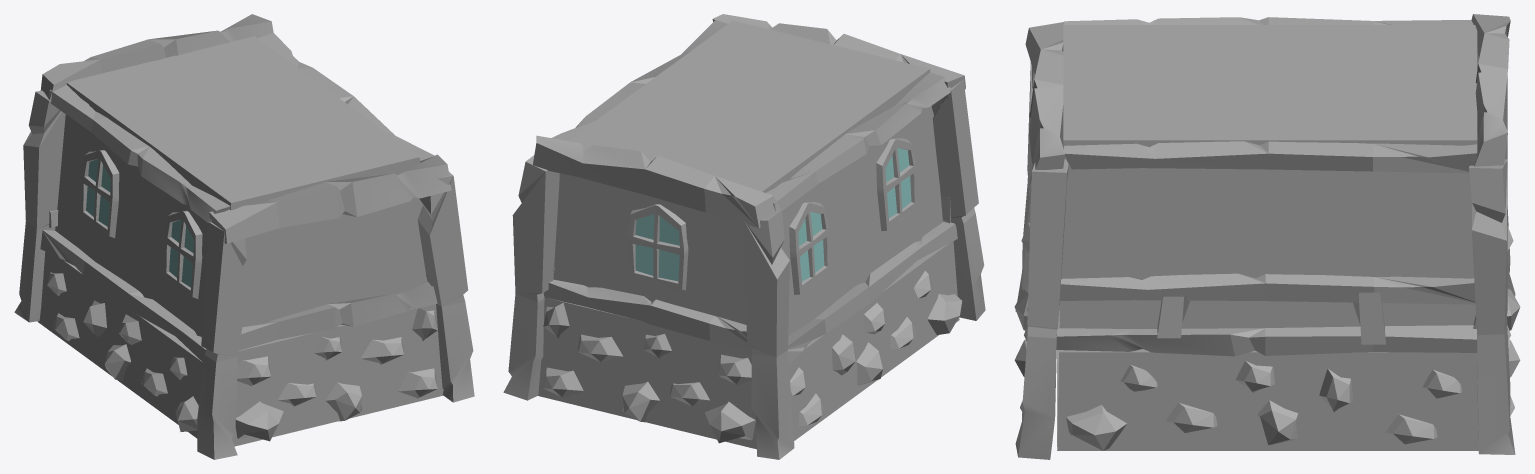
Rendered from SM_L_Modular_Homebase_2.fbx.
3 renders of one model, left to right at view 1: azimuth 30°, elevation 25°; view 2: azimuth 150°, elevation 25°; view 3: azimuth 270°, elevation 25°, orthographic. The views are drawn at different scales.
Parts seen in each view (by area): view 1: SM_Modular_home2; view 2: SM_Modular_home2; view 3: SM_Modular_home2.
Boxes of the visible parts, x1,y1,x2,y2 form: SM_Modular_home2: (14, 14, 474, 459); SM_Modular_home2: (503, 14, 985, 459); SM_Modular_home2: (1014, 14, 1520, 459).
Bounding box in the file's own units: 3.63 × 3.26 × 4.7.
